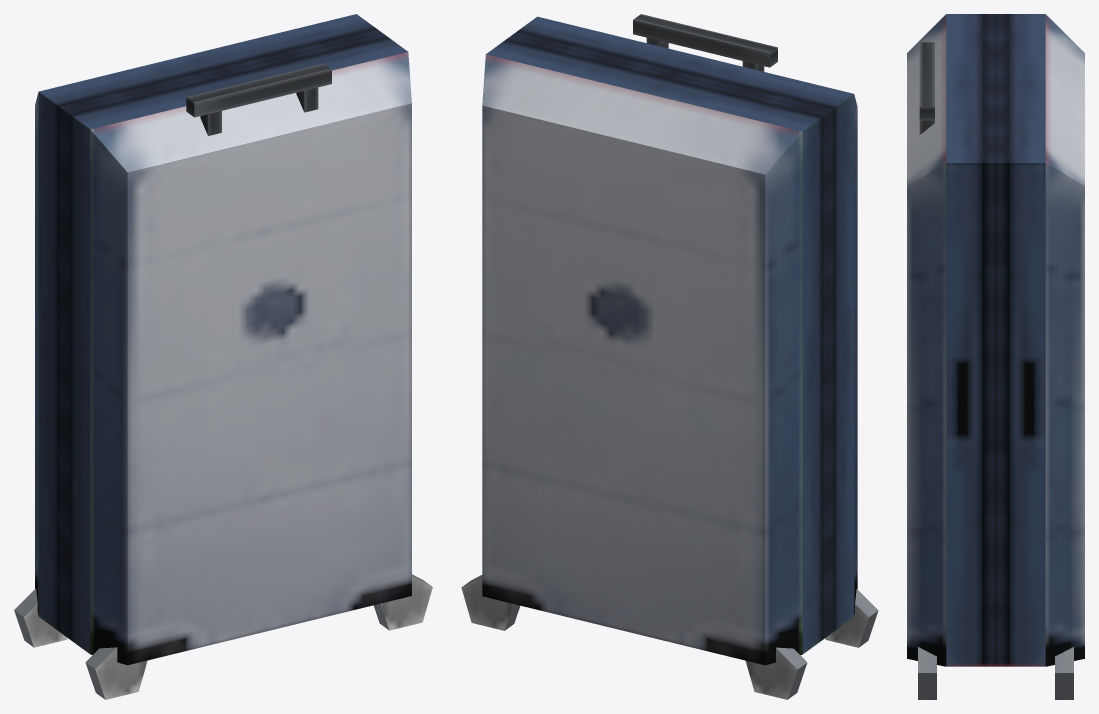
The model's file is Suitcase01D.obj.
The picture shows the model from 3 angles, left to right: view 1: azimuth 30°, elevation 25°; view 2: azimuth 150°, elevation 25°; view 3: azimuth 270°, elevation 25°; orthographic projection. The views are drawn at different scales.
Visible parts, largest first — view 1: Suitcase01.Bttm, Suitcase01.Top; view 2: Suitcase01.Top, Suitcase01.Bttm; view 3: Suitcase01.Bttm, Suitcase01.Top.
Boxes of the visible parts, left/top/right/bottom form: Suitcase01.Bttm: left=64, top=33, right=432, bottom=699; Suitcase01.Top: left=14, top=14, right=381, bottom=647; Suitcase01.Top: left=461, top=35, right=828, bottom=699; Suitcase01.Bttm: left=512, top=14, right=878, bottom=647; Suitcase01.Bttm: left=907, top=14, right=995, bottom=699; Suitcase01.Top: left=996, top=14, right=1084, bottom=699.
Size of the model in its own units: 1.23 by 2 by 0.5833.
